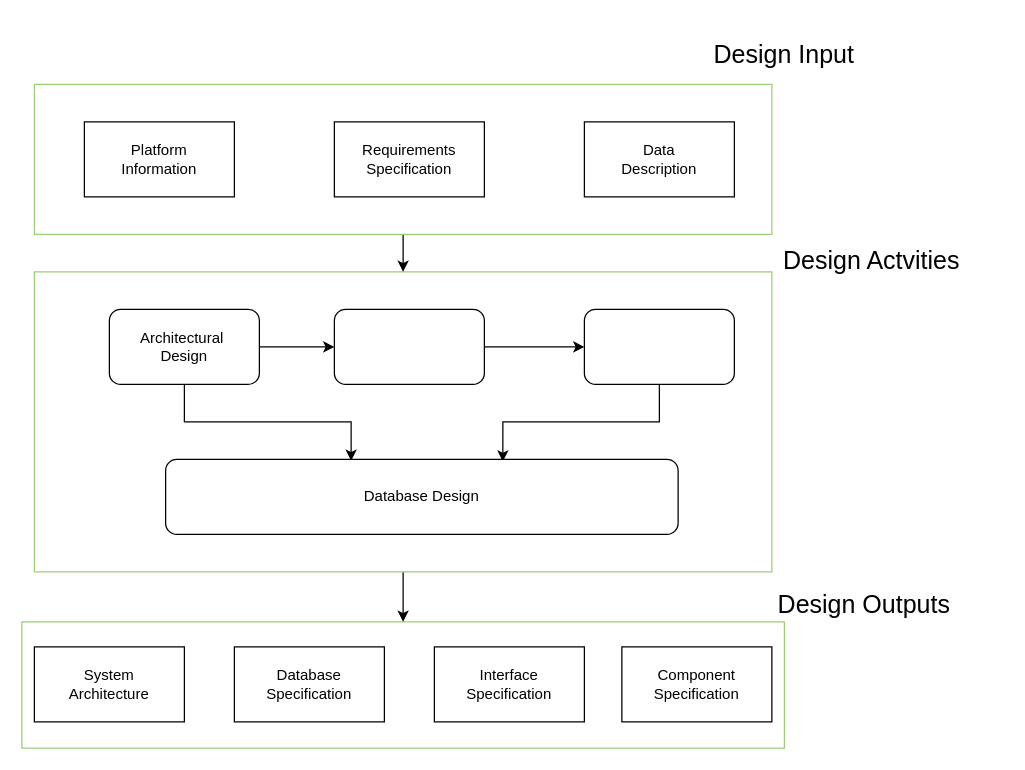
Some shapes in this 1025 by 770 pixel diagram are drawn without their labels. The box of each missing label's shape, as (x1, y1, x2, y2) in pixels:
Component Design: (583, 308, 734, 384)
Interface Design: (333, 308, 484, 384)
